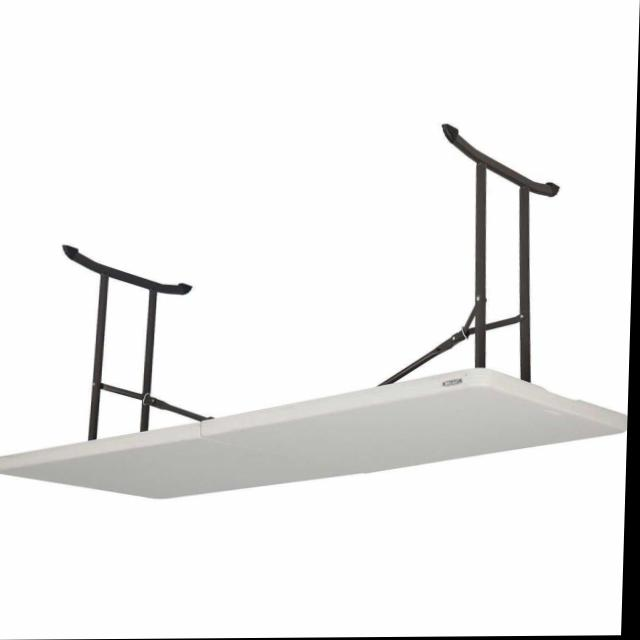Table: (0, 117, 637, 536)
